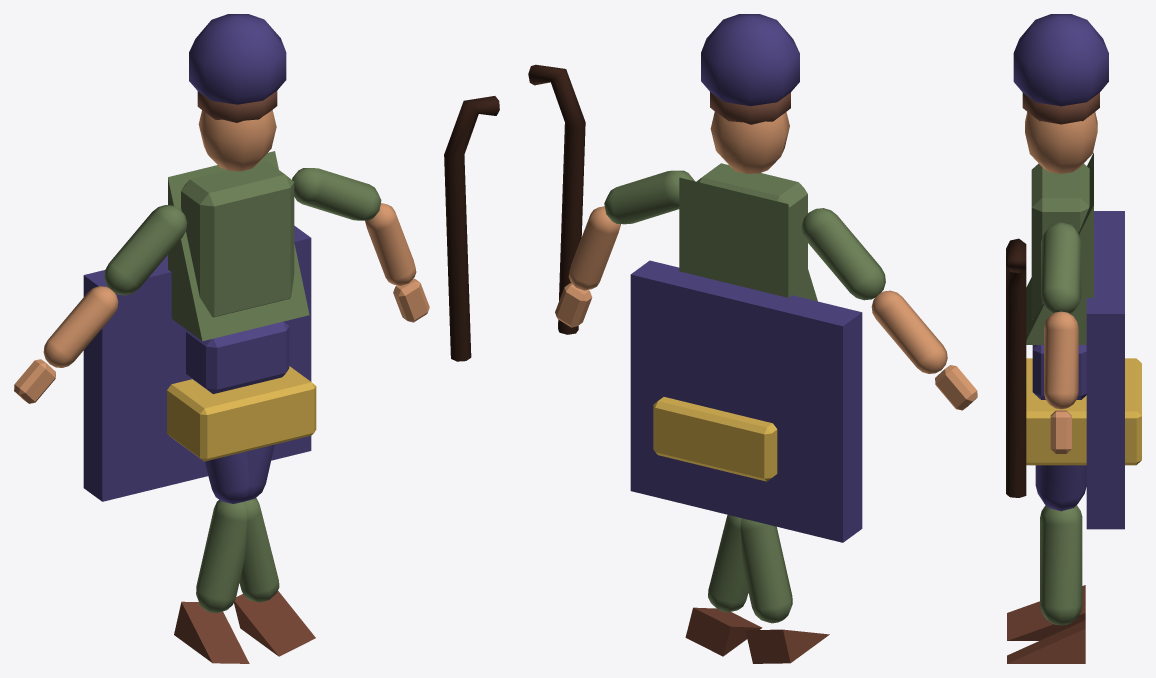
File: adventurer.rustic.glb
The picture shows the model from 3 angles, left to right: view 1: azimuth 30°, elevation 25°; view 2: azimuth 150°, elevation 25°; view 3: azimuth 270°, elevation 25°; orthographic projection.
Parts seen in each view (by area): view 1: accessory.back, torso, accessory.waist, accessory.head, tunic, accessory.main-hand, pelvis, shin.right, upper-arm.left, head, upper-arm.right, forearm.left (+9 smaller); view 2: accessory.back, tunic, accessory.head, accessory.waist, accessory.main-hand, upper-arm.left, shin.right, head, forearm.left, upper-arm.right, torso, shin.left (+6 smaller); view 3: accessory.back, accessory.head, accessory.main-hand, accessory.waist, shin.left, torso, upper-arm.right, head, forearm.right, tunic, foot.left, thigh.right (+4 smaller).
Boxes of the visible parts, x1,y1,x2,y2 form: accessory.back: (83,225,311,501); torso: (181,160,294,317); accessory.waist: (167,366,316,461); accessory.head: (189,14,286,104); tunic: (168,151,309,341); accessory.main-hand: (444,96,499,361); pelvis: (186,321,289,393); shin.right: (196,499,247,613); upper-arm.left: (104,205,186,295); head: (198,110,276,171); upper-arm.right: (292,168,381,220); forearm.left: (43,286,118,367); accessory.back: (630,260,862,542); tunic: (679,177,817,301); accessory.head: (701,14,799,106); accessory.waist: (653,397,777,481); accessory.main-hand: (528,64,585,334); upper-arm.left: (801,208,885,300); shin.right: (740,518,792,623); head: (710,111,789,173); forearm.left: (871,290,947,373); upper-arm.right: (604,170,694,224); torso: (697,163,807,267); shin.left: (708,515,748,612); accessory.back: (1086,211,1124,529); accessory.head: (1013,14,1108,106); accessory.main-hand: (1006,238,1026,497); accessory.waist: (1026,358,1141,465); shin.left: (1040,506,1082,625); torso: (1031,163,1089,319); upper-arm.right: (1041,222,1081,313); head: (1025,112,1097,173); forearm.right: (1044,311,1078,409); tunic: (1026,152,1093,344); foot.left: (1007,620,1085,663); thigh.right: (1035,465,1086,511).
Size of the model in its own units: 2.52 by 3.28 by 0.64.
